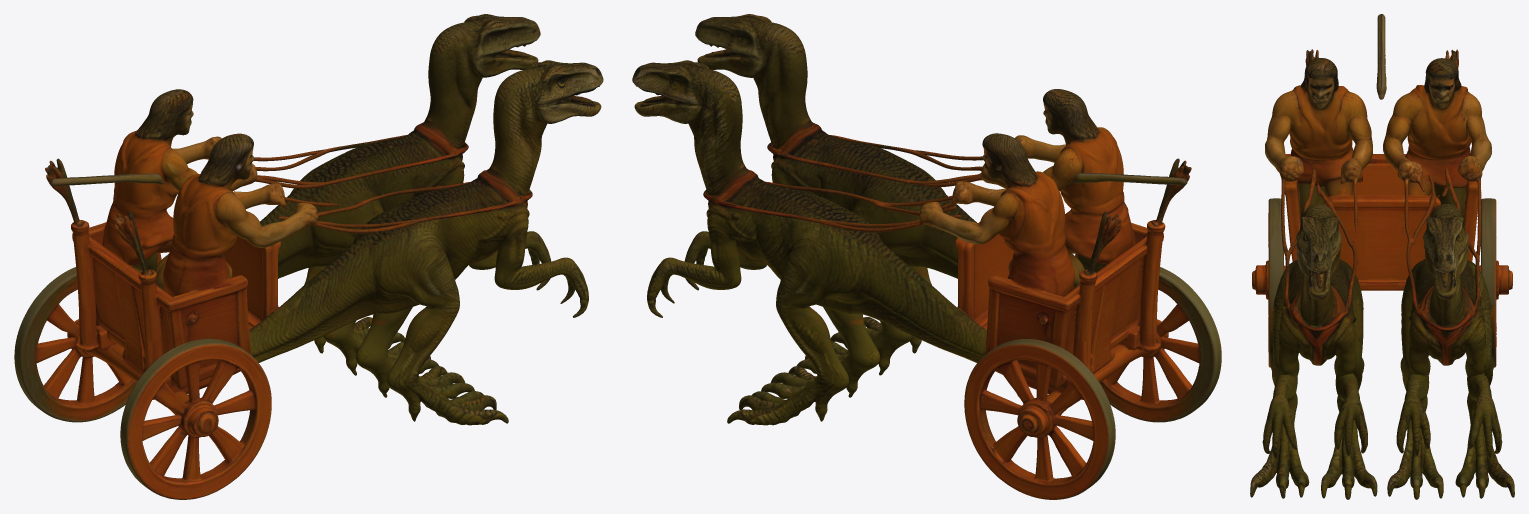
3 renders of one model, left to right at view 1: azimuth 30°, elevation 25°; view 2: azimuth 150°, elevation 25°; view 3: azimuth 270°, elevation 25°, orthographic.
Parts seen in each view (by area): view 1: tripo_node_689d7c7b-8f69-490a-8e38-e8cd9b97ec67; view 2: tripo_node_689d7c7b-8f69-490a-8e38-e8cd9b97ec67; view 3: tripo_node_689d7c7b-8f69-490a-8e38-e8cd9b97ec67.
Part boxes in pixels (<box>): tripo_node_689d7c7b-8f69-490a-8e38-e8cd9b97ec67: <box>14,14,603,499</box>; tripo_node_689d7c7b-8f69-490a-8e38-e8cd9b97ec67: <box>632,14,1221,499</box>; tripo_node_689d7c7b-8f69-490a-8e38-e8cd9b97ec67: <box>1250,14,1514,499</box>.
Bounding box in the file's own units: 1 × 0.602 × 0.4392.
1 material, 1 textured.
